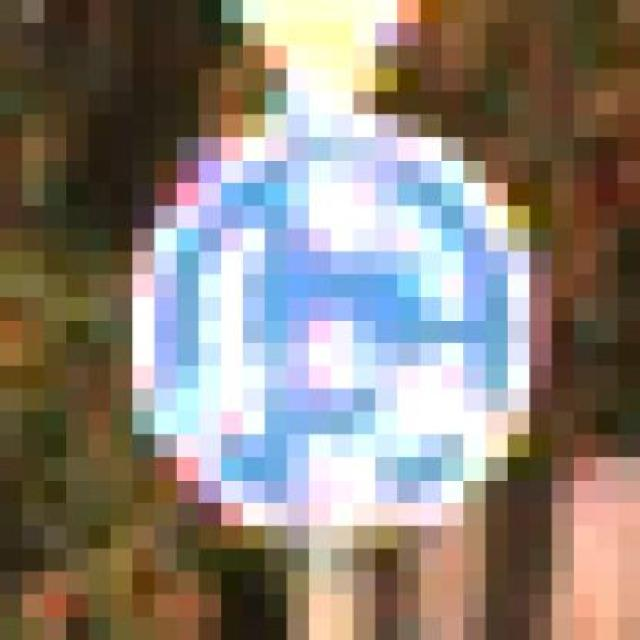Round-About: (88, 91, 574, 594)
